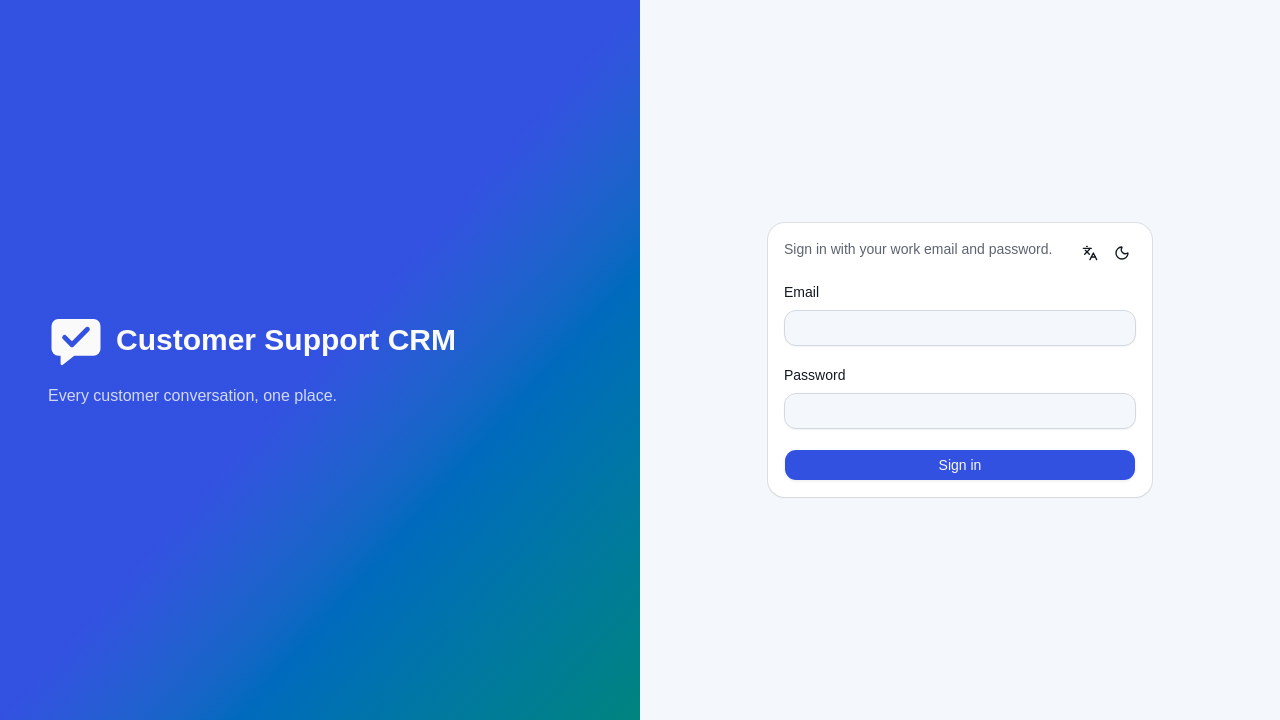
Test case: App layout and routing › opens the page the user asked for after login
This screenshot has width=1280, height=720.
Expected: the form "Sign in" is shown, [784,283,1136,481]
In the field labelled "Email": coordinates (960, 328) [784,310,1136,346], type "admin@crm.local"
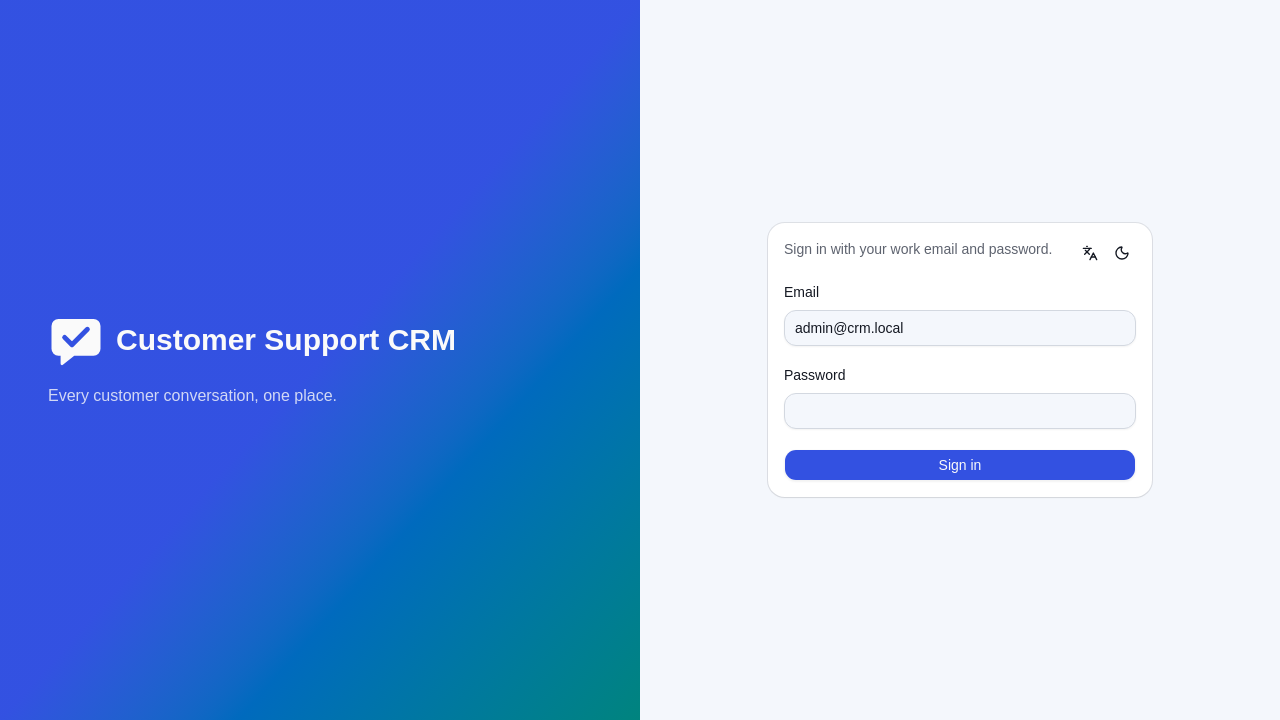
In the password field labelled "Password": coordinates (960, 411) [784,393,1136,429], type "Admin#12345"
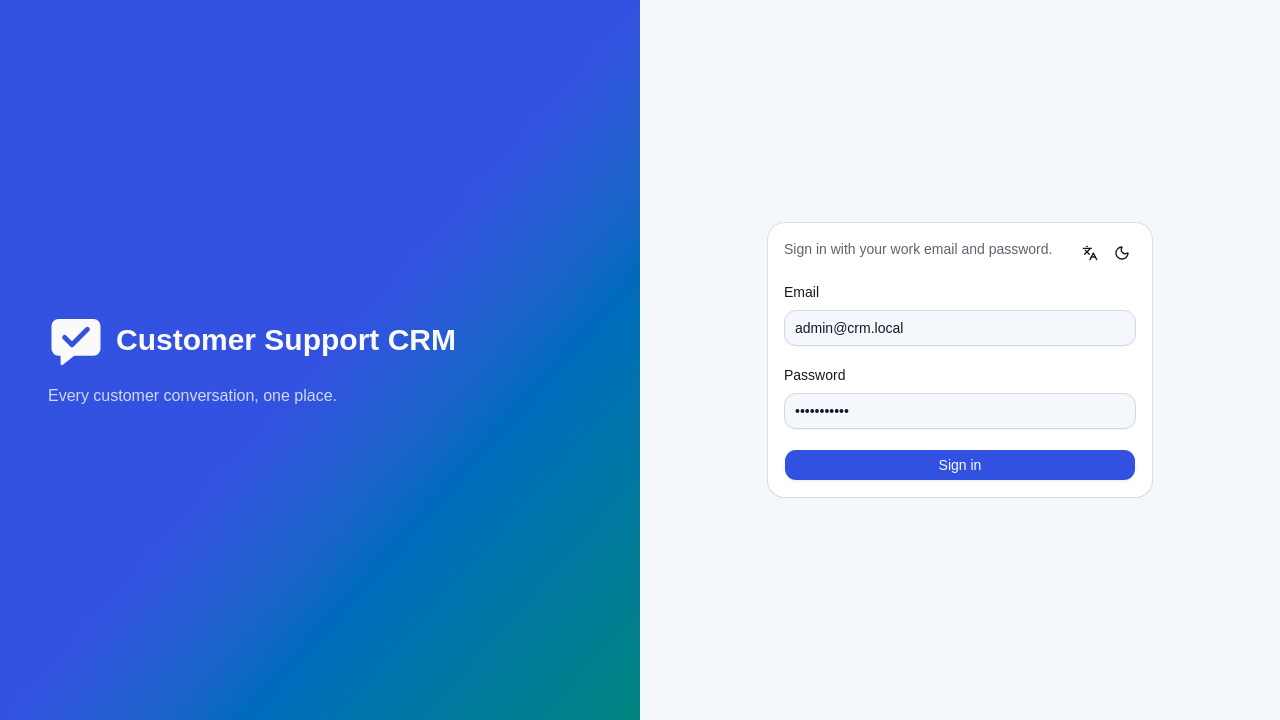
Click the button "Sign in": coordinates (960, 465) [784,449,1136,481]
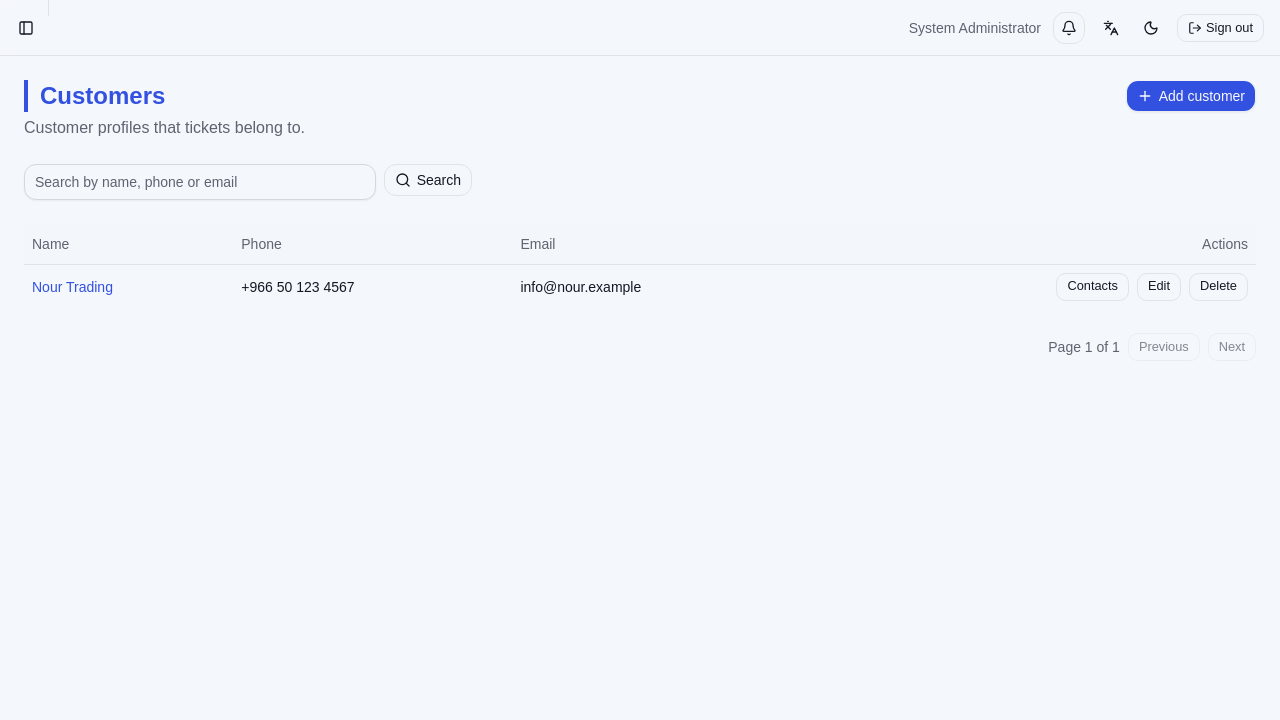
Result: the heading "Customers" is shown at [24,80,305,112]
